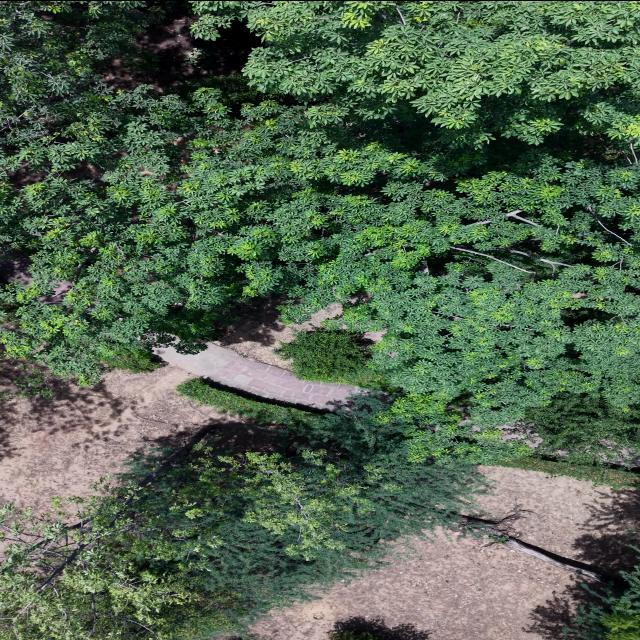DRY_AREA: (0, 297, 365, 508), (0, 297, 360, 510), (0, 344, 361, 511), (0, 358, 268, 521), (54, 297, 365, 429), (0, 357, 236, 510), (251, 532, 583, 639), (251, 532, 580, 639), (251, 532, 578, 639), (0, 365, 232, 510), (153, 297, 367, 410), (153, 297, 365, 409), (155, 296, 365, 409), (214, 295, 359, 408), (100, 9, 260, 90), (100, 10, 260, 90), (212, 295, 341, 370), (214, 296, 341, 369), (215, 296, 340, 368)
PATHWAYS: (154, 343, 364, 409), (154, 343, 363, 409)
VEGETATION_TREE: (0, 1, 639, 639), (1, 1, 639, 458), (1, 379, 636, 639), (1, 398, 483, 639), (190, 1, 637, 131), (1, 486, 231, 639), (460, 505, 639, 639), (459, 504, 617, 584), (358, 395, 534, 464), (372, 393, 534, 464), (524, 392, 639, 462), (274, 329, 382, 388), (176, 378, 316, 423), (564, 564, 639, 639), (499, 456, 639, 488), (0, 361, 53, 401), (604, 612, 639, 639), (329, 630, 378, 639)
